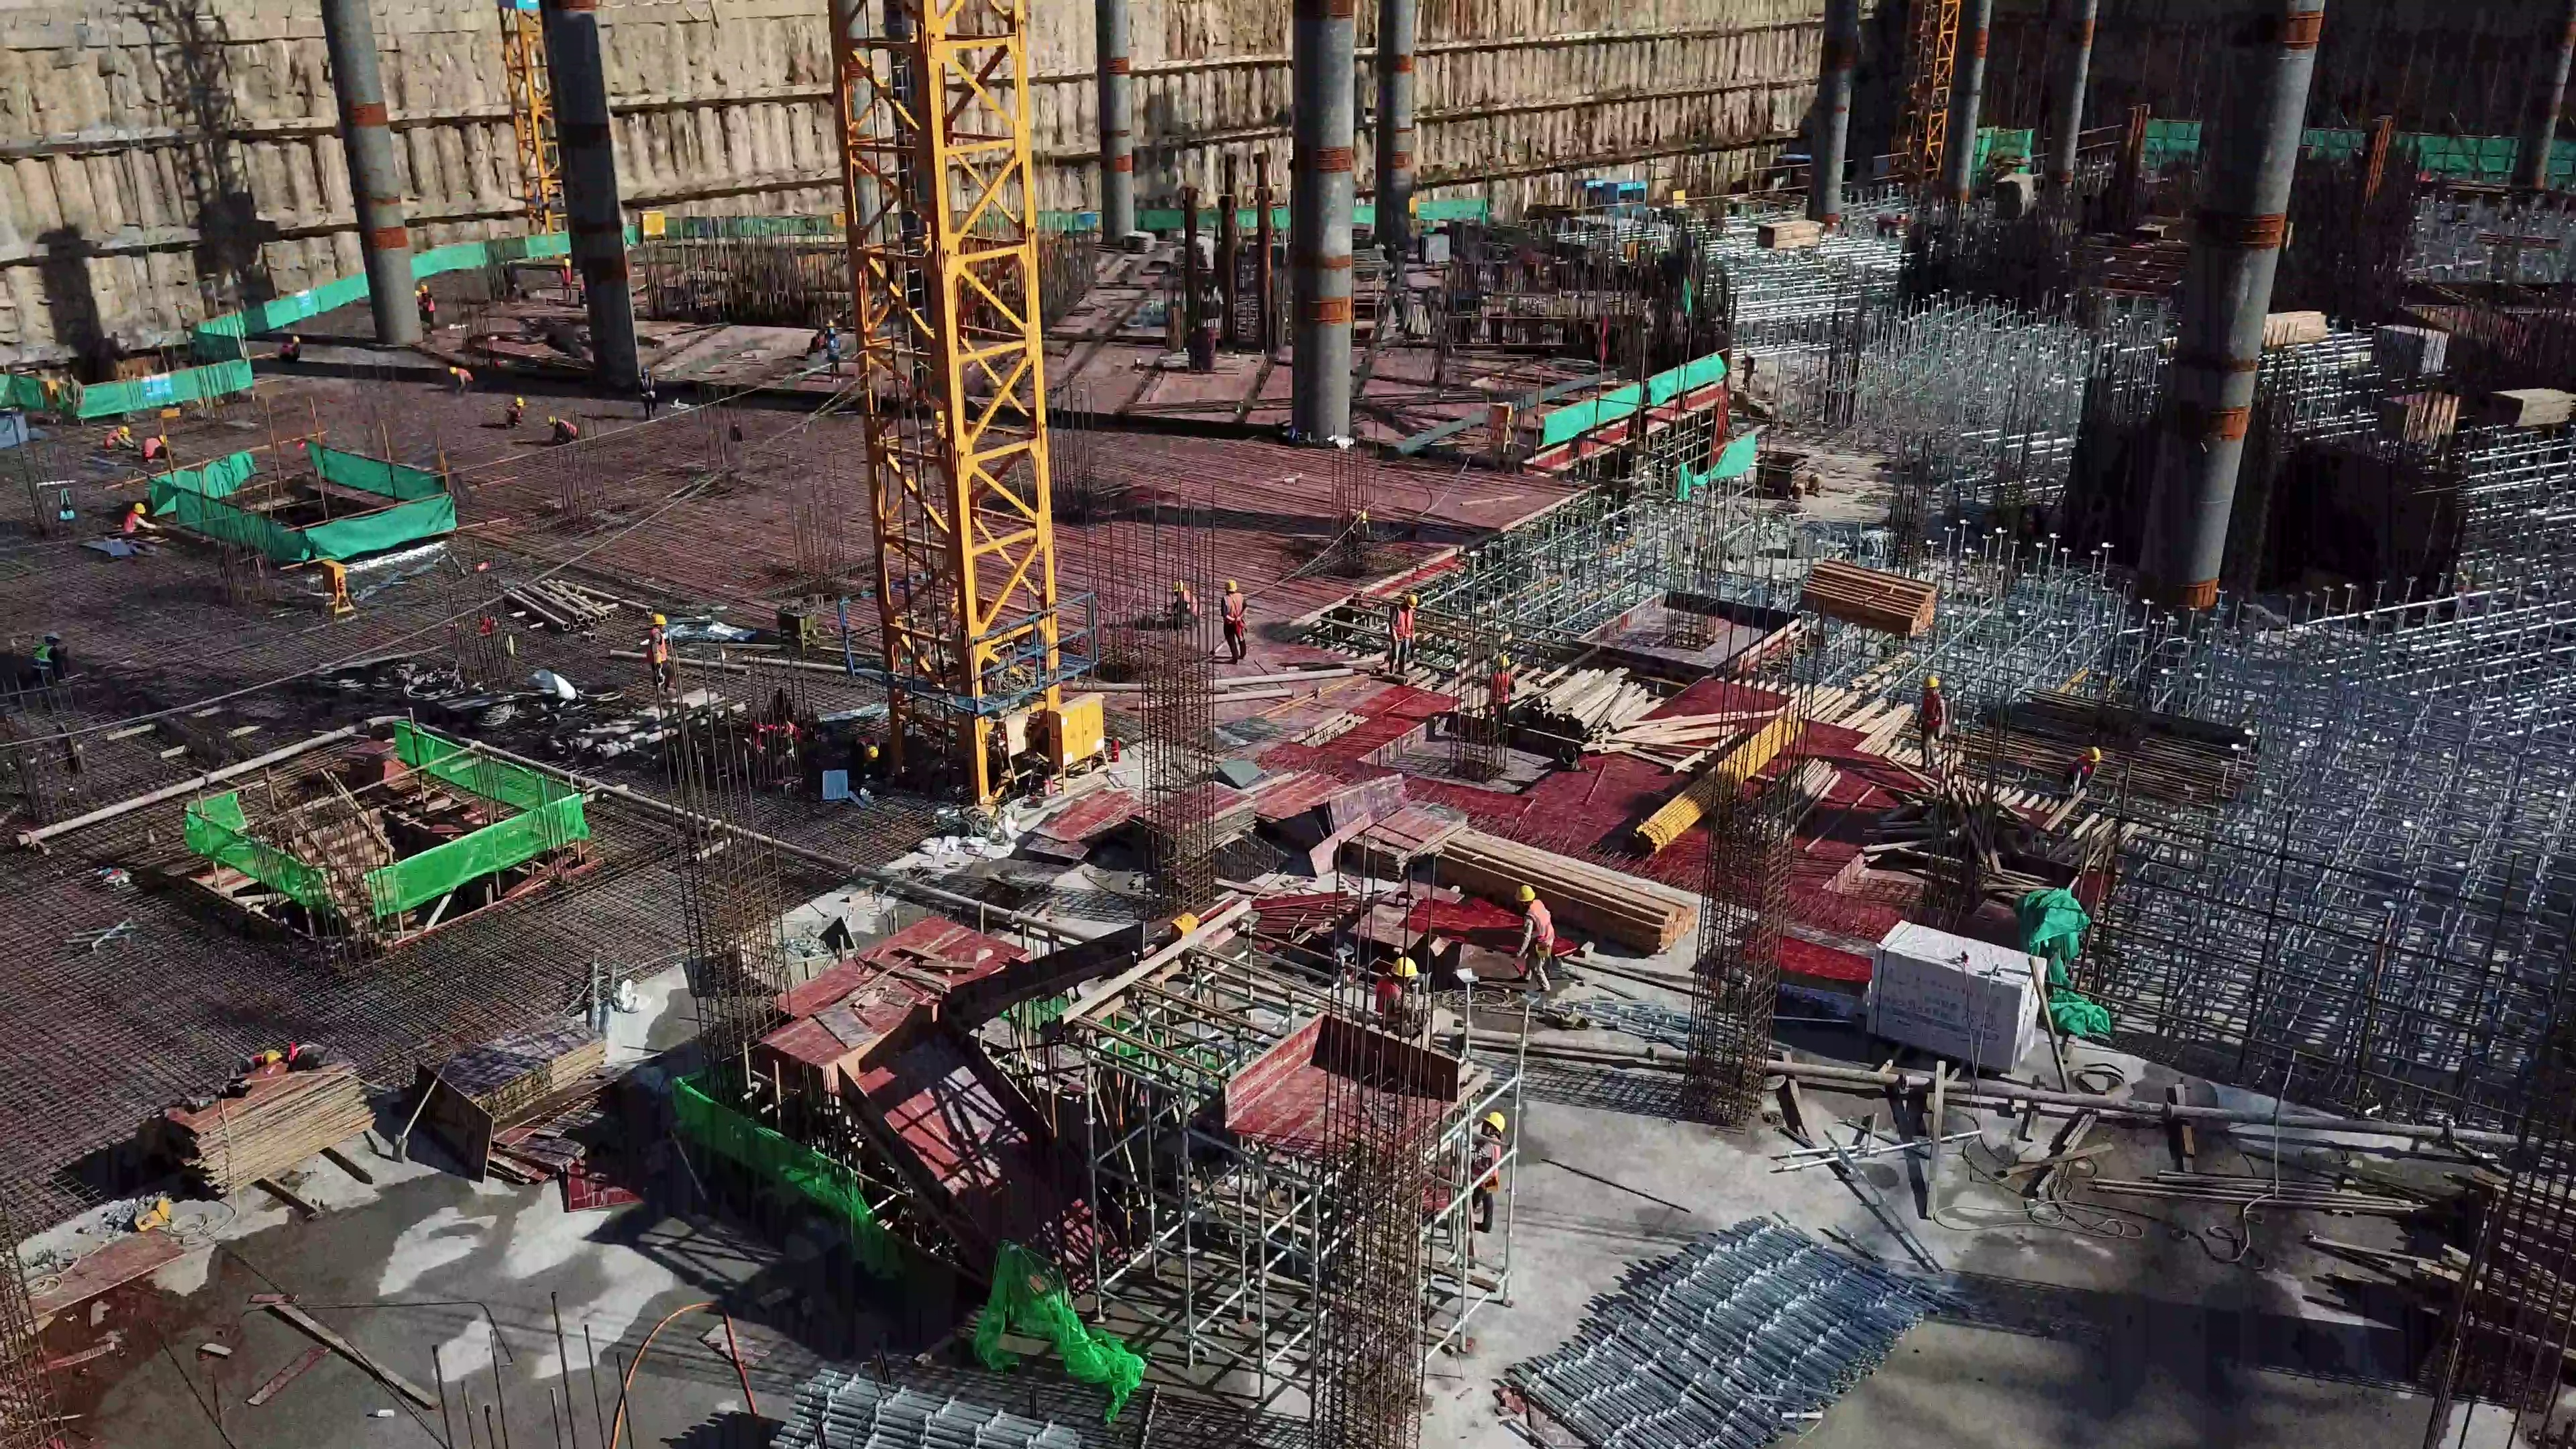board: (425, 1007, 604, 1188), (178, 1048, 368, 1188)
person: (1472, 1112, 1511, 1249), (1213, 573, 1254, 686), (1377, 590, 1429, 678), (1517, 888, 1554, 993), (1374, 957, 1426, 1030), (1917, 669, 1951, 762), (645, 613, 680, 689), (117, 500, 166, 543), (2065, 739, 2097, 783), (545, 415, 580, 450), (140, 430, 163, 465), (443, 360, 466, 394), (504, 394, 528, 424), (105, 424, 125, 456)
scaffold: (2208, 593, 2576, 1118), (1476, 1220, 1931, 1449)
wood: (1429, 833, 1697, 963), (1511, 660, 1682, 756)
